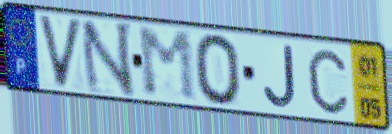C: (305, 47, 350, 117)
J: (260, 42, 299, 111)
M: (135, 26, 200, 104)
N: (78, 20, 137, 99)
O: (192, 31, 244, 108)
V: (36, 12, 86, 92)
